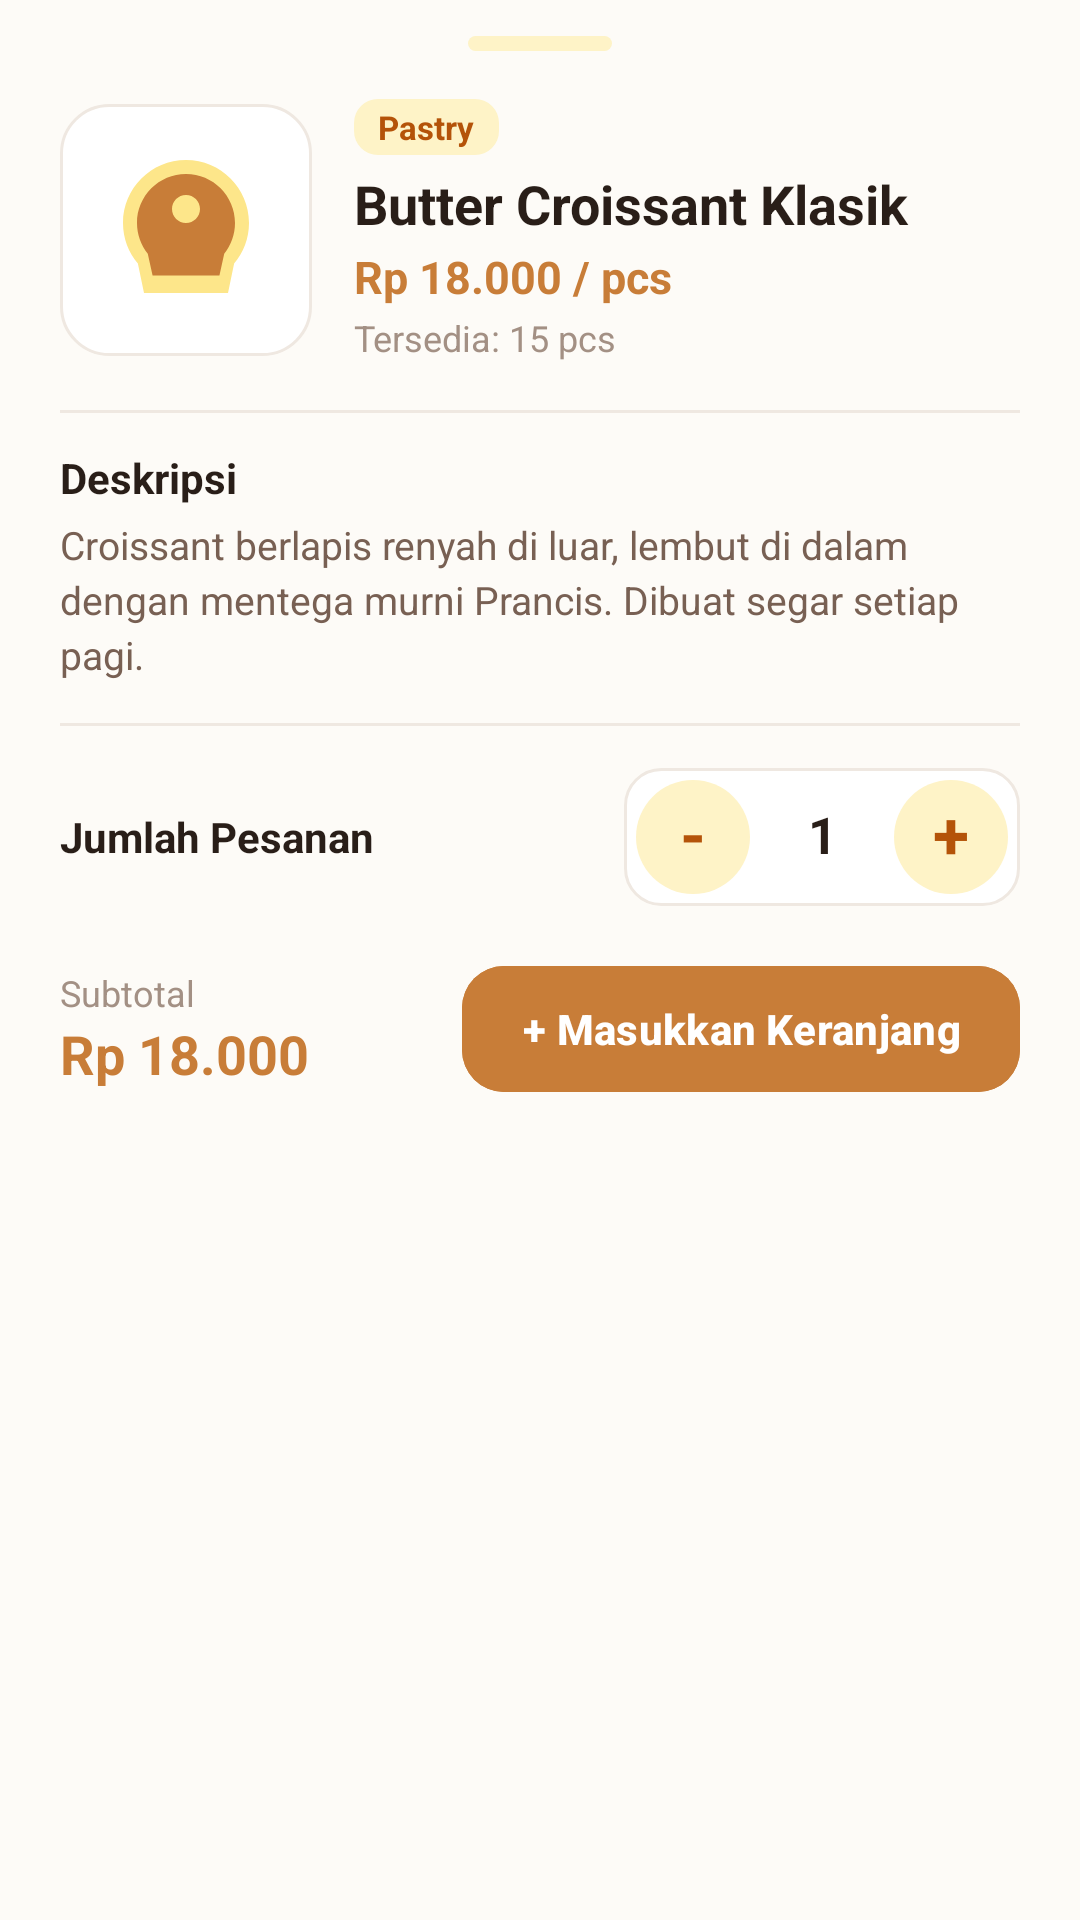

Named icons in this screenshot (1080 × 1920) and their bounding boxes, (x1, y1, x2, y2):
Foto Roti: (123, 160, 249, 293)
